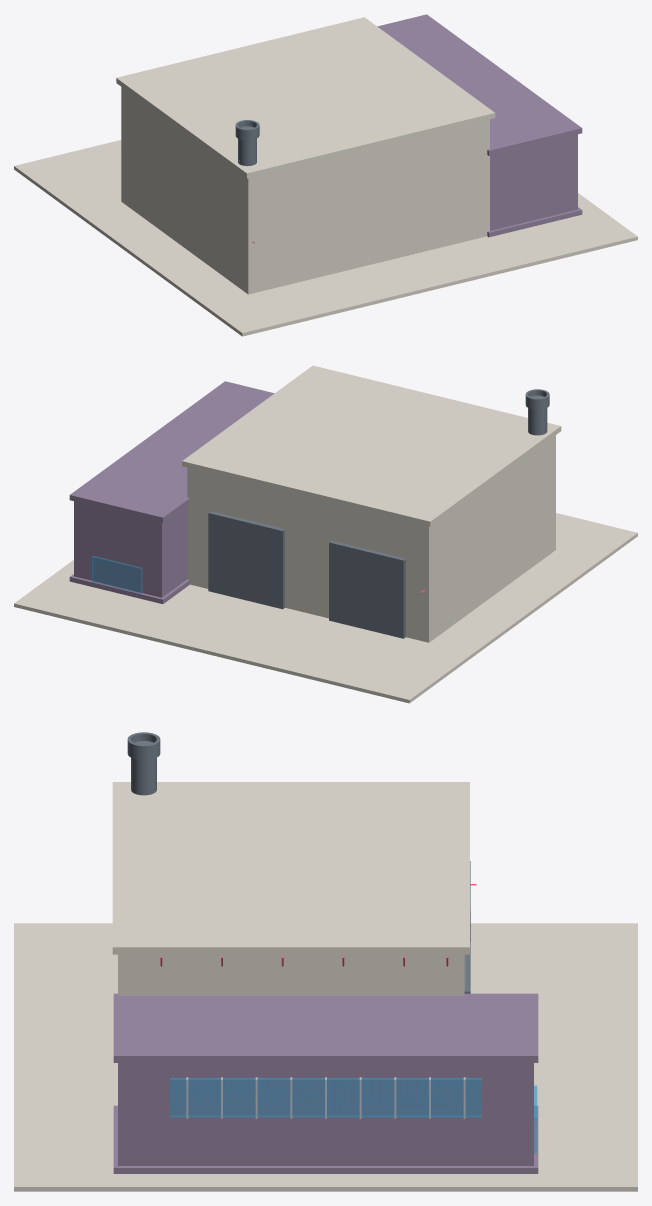
The model's file is hq_09_commercial_l1.glb.
3 renders of one model, top to bottom at view 1: azimuth 30°, elevation 25°; view 2: azimuth 150°, elevation 25°; view 3: azimuth 270°, elevation 25°, orthographic. The views are drawn at different scales.
Parts seen in each view (by area): view 1: GEO_Commercial_Service_Depot_Shell, GEO_Commercial_Foundation_Plinth, GEO_Commercial_Dispatch_Halls, GEO_Commercial_Soot_Exhaust_Stack; view 2: GEO_Commercial_Service_Depot_Shell, GEO_Commercial_Foundation_Plinth, GEO_Commercial_Dispatch_Halls, GEO_Commercial_HighClearance_Doors, GEO_Commercial_Dispatch_Glass, GEO_Commercial_Soot_Exhaust_Stack; view 3: GEO_Commercial_Service_Depot_Shell, GEO_Commercial_Dispatch_Halls, GEO_Commercial_Foundation_Plinth, GEO_Commercial_Dispatch_Glass, GEO_Commercial_Soot_Exhaust_Stack, GEO_Commercial_Dispatch_Mullions.
Boxes of the visible parts, bbox=[...] form: GEO_Commercial_Service_Depot_Shell: bbox=[116, 17, 495, 294]; GEO_Commercial_Foundation_Plinth: bbox=[14, 140, 637, 336]; GEO_Commercial_Dispatch_Halls: bbox=[377, 14, 582, 237]; GEO_Commercial_Soot_Exhaust_Stack: bbox=[235, 120, 259, 166]; GEO_Commercial_Service_Depot_Shell: bbox=[182, 365, 561, 642]; GEO_Commercial_Foundation_Plinth: bbox=[14, 513, 637, 703]; GEO_Commercial_Dispatch_Halls: bbox=[69, 381, 274, 603]; GEO_Commercial_HighClearance_Doors: bbox=[208, 511, 405, 638]; GEO_Commercial_Dispatch_Glass: bbox=[92, 556, 142, 593]; GEO_Commercial_Soot_Exhaust_Stack: bbox=[525, 389, 549, 435]; GEO_Commercial_Service_Depot_Shell: bbox=[112, 782, 469, 995]; GEO_Commercial_Dispatch_Halls: bbox=[113, 993, 538, 1173]; GEO_Commercial_Foundation_Plinth: bbox=[14, 923, 637, 1191]; GEO_Commercial_Dispatch_Glass: bbox=[170, 1078, 537, 1152]; GEO_Commercial_Soot_Exhaust_Stack: bbox=[127, 732, 160, 795]; GEO_Commercial_Dispatch_Mullions: bbox=[186, 1077, 465, 1118].
Size of what is drawn, in the model's own units: 36 by 14.25 by 36.
